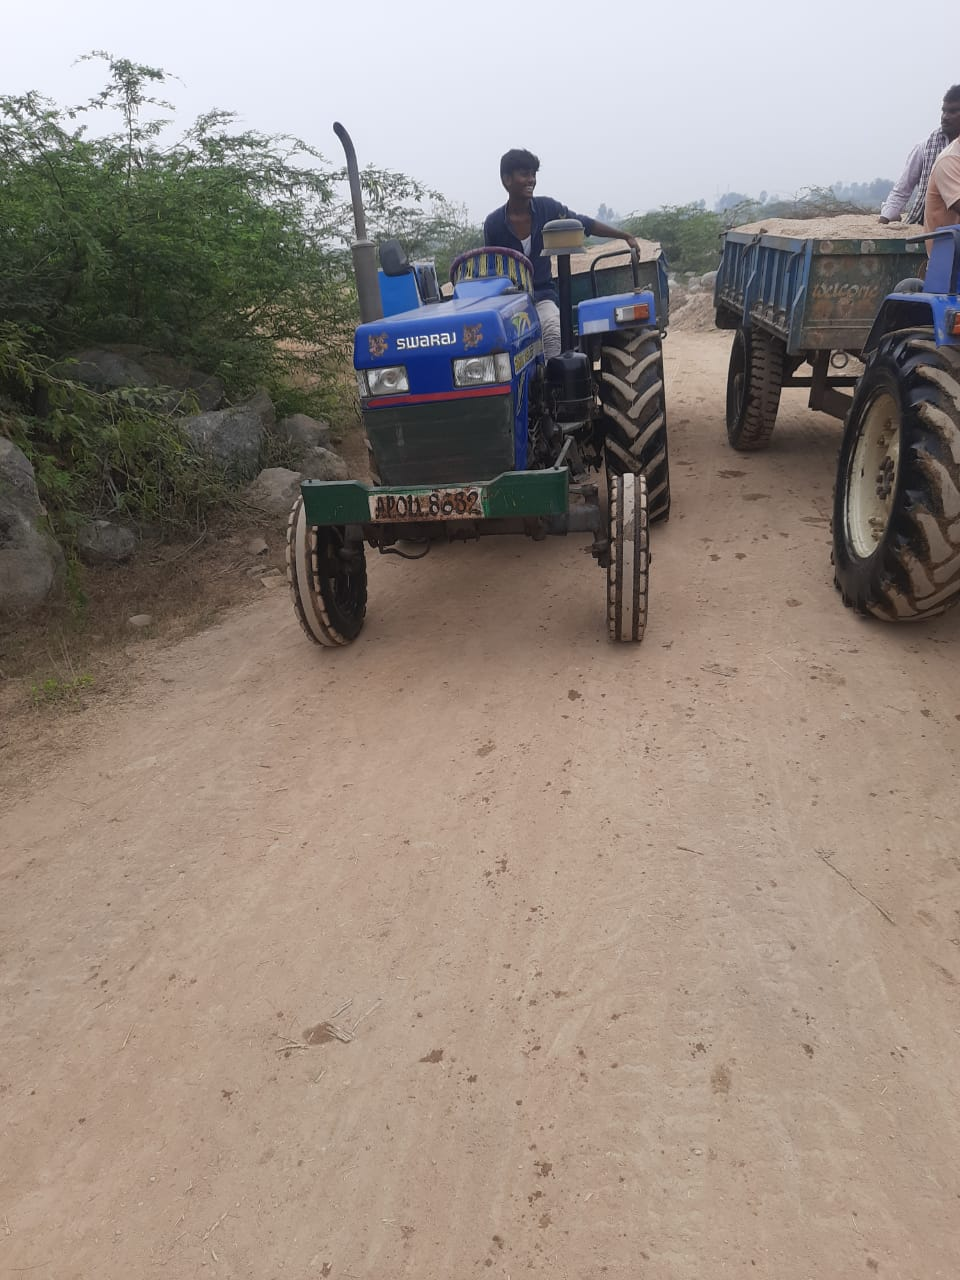num_plate: (366, 486, 488, 519)
